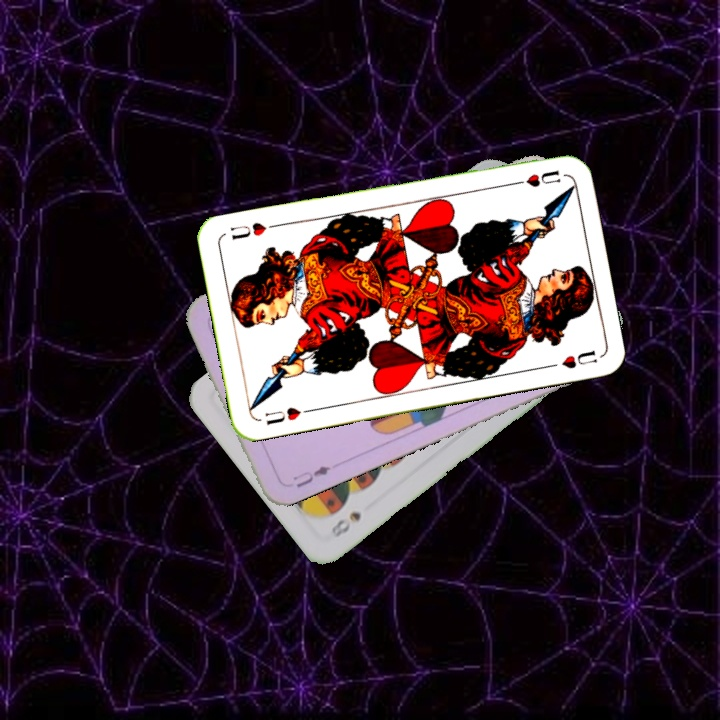EU: (288, 461, 333, 490)
HU: (507, 166, 564, 190), (261, 403, 314, 428)
S8: (327, 507, 364, 541)
